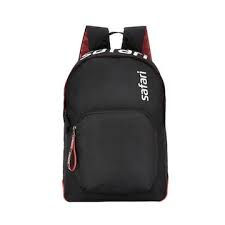backpack: (61, 24, 168, 202)
